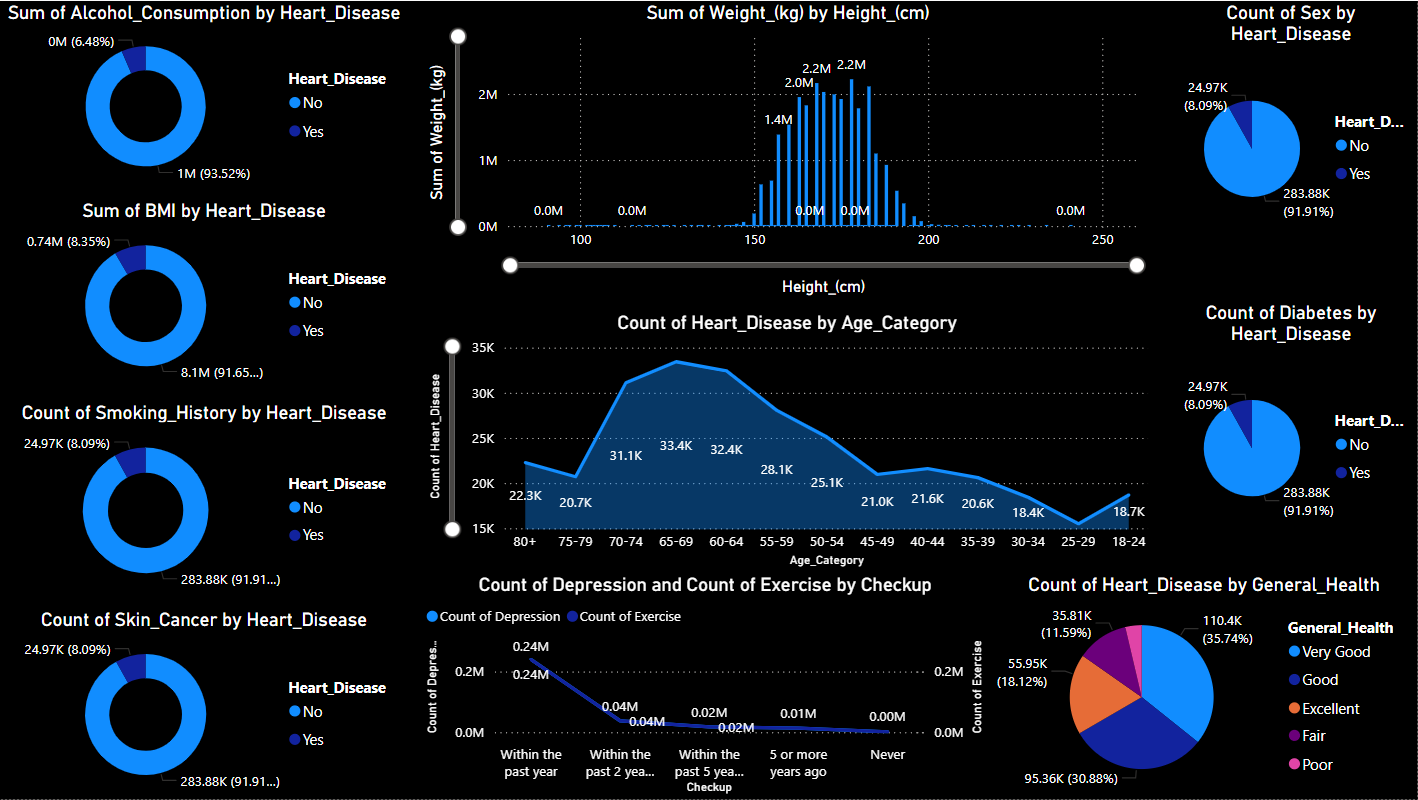

Layout of this report page (visuals, bound fields, positions):
{"tool":"powerbi","page":{"name":"Page 1","canvas":[1280,720],"ordinal":0},"visuals":[{"type":"donutChart","fields":{"Y":["Sum(CVD_cleaned.Alcohol_Consumption)"],"Category":["CVD_cleaned.Heart_Disease"]},"box":[0,0,371.6,171.1],"z":0},{"type":"donutChart","fields":{"Y":["Sum(CVD_cleaned.BMI)"],"Category":["CVD_cleaned.Heart_Disease"]},"box":[0,179.7,371.6,172.4],"z":1000},{"type":"donutChart","fields":{"Y":["CountNonNull(CVD_cleaned.Smoking_History)"],"Category":["CVD_cleaned.Heart_Disease"]},"box":[0,360.6,371.6,178.5],"z":2000},{"type":"donutChart","fields":{"Y":["CountNonNull(CVD_cleaned.Skin_Cancer)"],"Category":["CVD_cleaned.Heart_Disease"]},"box":[0,547.6,371.6,172.4],"z":3000},{"type":"clusteredColumnChart","fields":{"Category":["CVD_cleaned.Height_(cm)"],"Y":["Sum(CVD_cleaned.Weight_(kg))"]},"box":[382.6,0,660.1,270.2],"z":3001},{"type":"pieChart","fields":{"Y":["CountNonNull(CVD_cleaned.Sex)"],"Category":["CVD_cleaned.Heart_Disease"]},"box":[1051.3,0,228.6,228.6],"z":3002},{"type":"stackedAreaChart","fields":{"Category":["CVD_cleaned.Age_Category"],"Y":["CountNonNull(CVD_cleaned.Heart_Disease)"]},"box":[381.4,279.9,661.3,235.9],"z":3003},{"type":"pieChart","fields":{"Y":["CountNonNull(CVD_cleaned.Diabetes)"],"Category":["CVD_cleaned.Heart_Disease"]},"box":[1051.3,270.2,228.6,227.4],"z":3004},{"type":"pieChart","fields":{"Y":["CountNonNull(CVD_cleaned.Heart_Disease)"],"Category":["CVD_cleaned.General_Health"]},"box":[894.8,515.9,385.1,204.1],"z":3005},{"type":"lineChart","fields":{"Category":["CVD_cleaned.Checkup"],"Y":["CountNonNull(CVD_cleaned.Depression)"],"Y2":["CountNonNull(CVD_cleaned.Exercise)"]},"box":[381.4,515.9,513.4,204.1],"z":3006}]}

Visuals, with their boxes in screenshot pixels (x1, y1, x2, y2), scaled from the page's 1280x720 canvas onto the 1418x800 screenshot:
donutChart - Sum(CVD_cleaned.Alcohol_Consumption) x CVD_cleaned.Heart_Disease: Rect(0, 0, 412, 190)
donutChart - Sum(CVD_cleaned.BMI) x CVD_cleaned.Heart_Disease: Rect(0, 200, 412, 391)
donutChart - CountNonNull(CVD_cleaned.Smoking_History) x CVD_cleaned.Heart_Disease: Rect(0, 401, 412, 599)
donutChart - CountNonNull(CVD_cleaned.Skin_Cancer) x CVD_cleaned.Heart_Disease: Rect(0, 608, 412, 799)
clusteredColumnChart - CVD_cleaned.Height_(cm) x Sum(CVD_cleaned.Weight_(kg)): Rect(424, 0, 1155, 300)
pieChart - CountNonNull(CVD_cleaned.Sex) x CVD_cleaned.Heart_Disease: Rect(1165, 0, 1417, 254)
stackedAreaChart - CVD_cleaned.Age_Category x CountNonNull(CVD_cleaned.Heart_Disease): Rect(423, 311, 1155, 573)
pieChart - CountNonNull(CVD_cleaned.Diabetes) x CVD_cleaned.Heart_Disease: Rect(1165, 300, 1417, 553)
pieChart - CountNonNull(CVD_cleaned.Heart_Disease) x CVD_cleaned.General_Health: Rect(991, 573, 1417, 799)
lineChart - CVD_cleaned.Checkup x CountNonNull(CVD_cleaned.Depression): Rect(423, 573, 991, 799)
